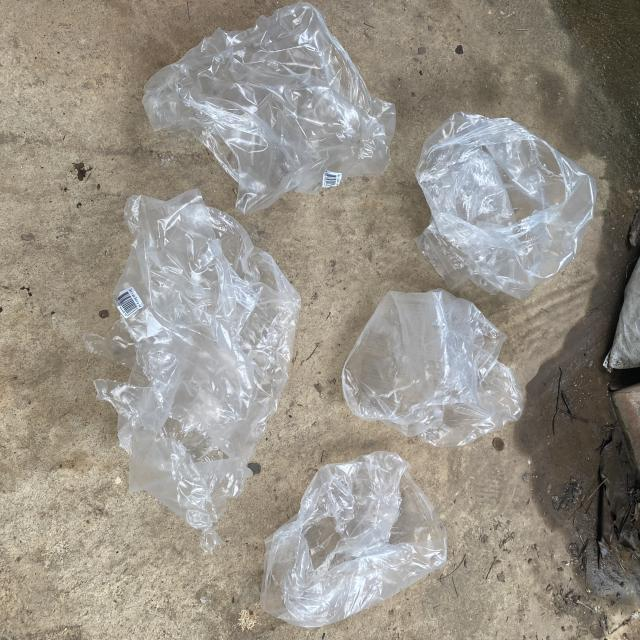Single-layer Plastic: (85, 190, 300, 551), (142, 2, 395, 214), (416, 111, 596, 299), (260, 451, 446, 628), (342, 289, 522, 448)
